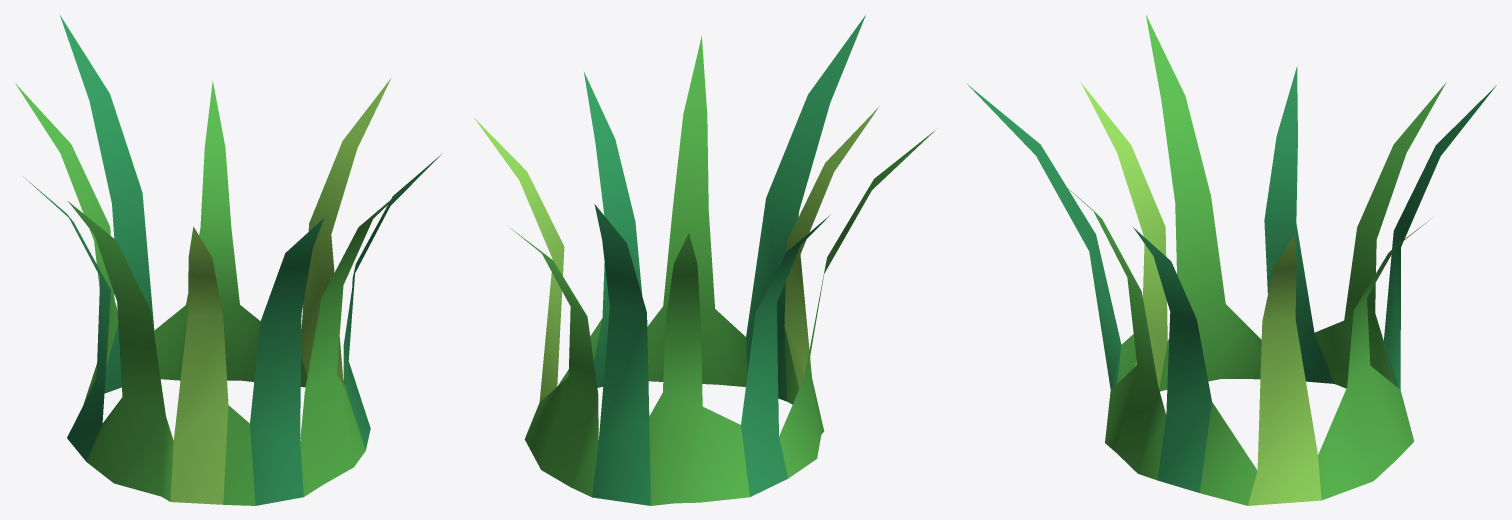
Rendered from m_grass.glb.
3 views of the same model, side by side, from view 1: azimuth 30°, elevation 25°; view 2: azimuth 150°, elevation 25°; view 3: azimuth 270°, elevation 25° (orthographic). The views are drawn at different scales.
Visible parts, largest first — view 1: m_grass; view 2: m_grass; view 3: m_grass.
Part boxes in pixels (left/top/right/bottom): m_grass: left=15, top=15, right=442, bottom=505; m_grass: left=474, top=15, right=937, bottom=505; m_grass: left=966, top=15, right=1496, bottom=505.
Bounding box in the file's own units: 2.07 × 1.72 × 2.43.
Materials: 1 (1 with a texture image).
